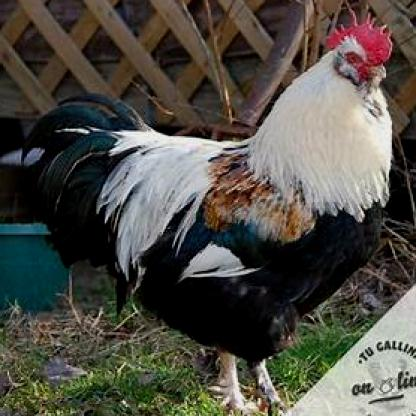chicken: (23, 11, 396, 414)
